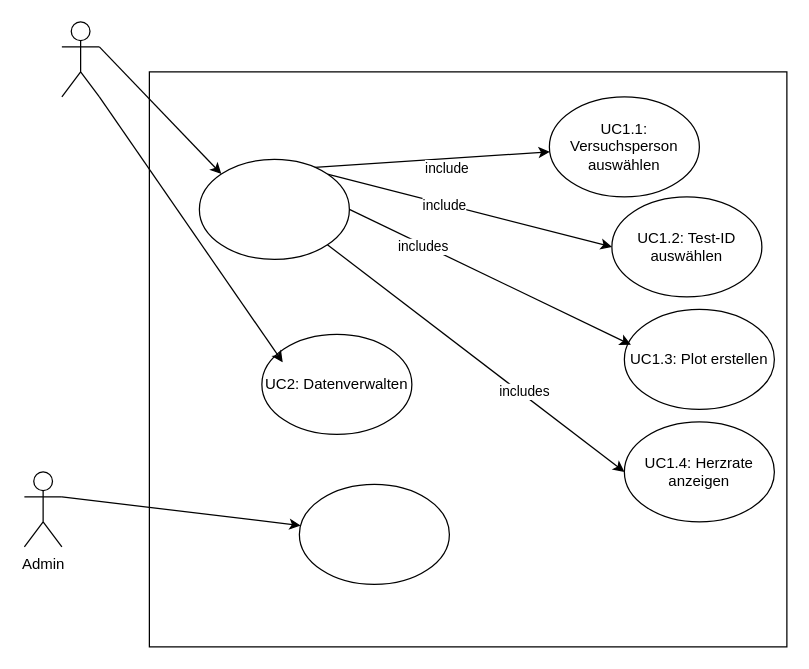
Image size: 809x669. Some labels were removed from this diagram. Each missing label, with the centre of its shape:
"Diagnostiker:in" belongs at (80,59).
"UC1: EKG eines Test auswerten" belongs at (273,208).
"UC3: Zugriffsverwaltung" belongs at (373,533).
